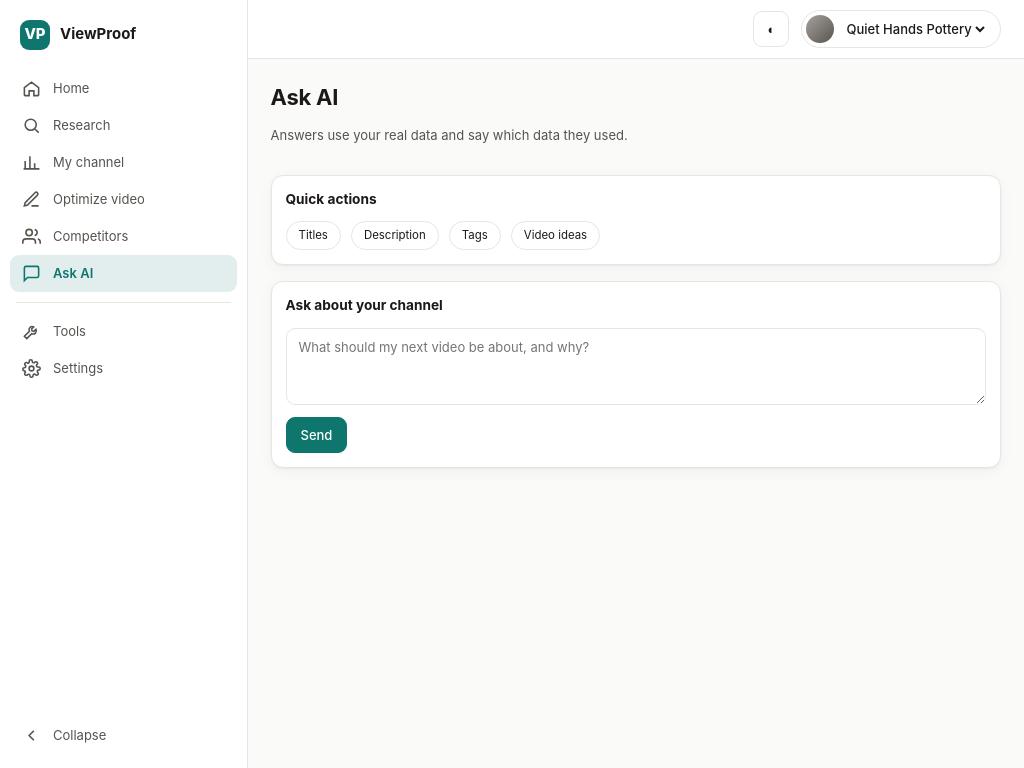
Test: Ask AI › a failed question keeps the text so it can be sent again
Type "hello" into the text box named "Ask about your channel" at [636, 366], box [286, 328, 986, 405]
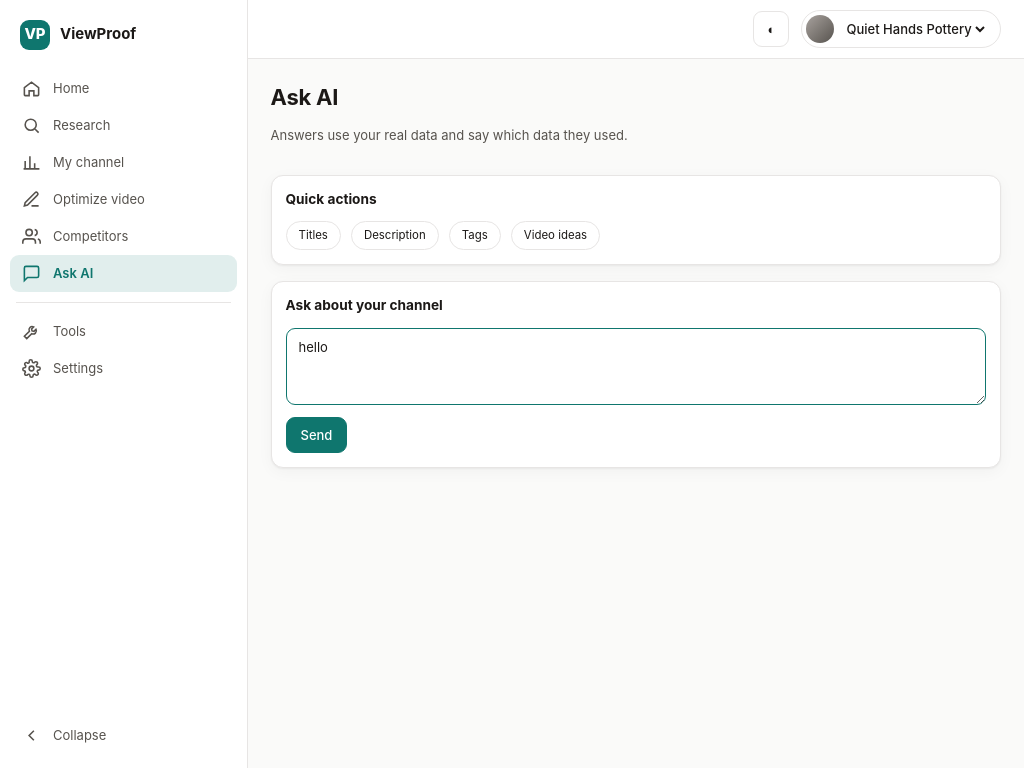
Click the button "Send" at [316, 435], box [286, 417, 347, 453]
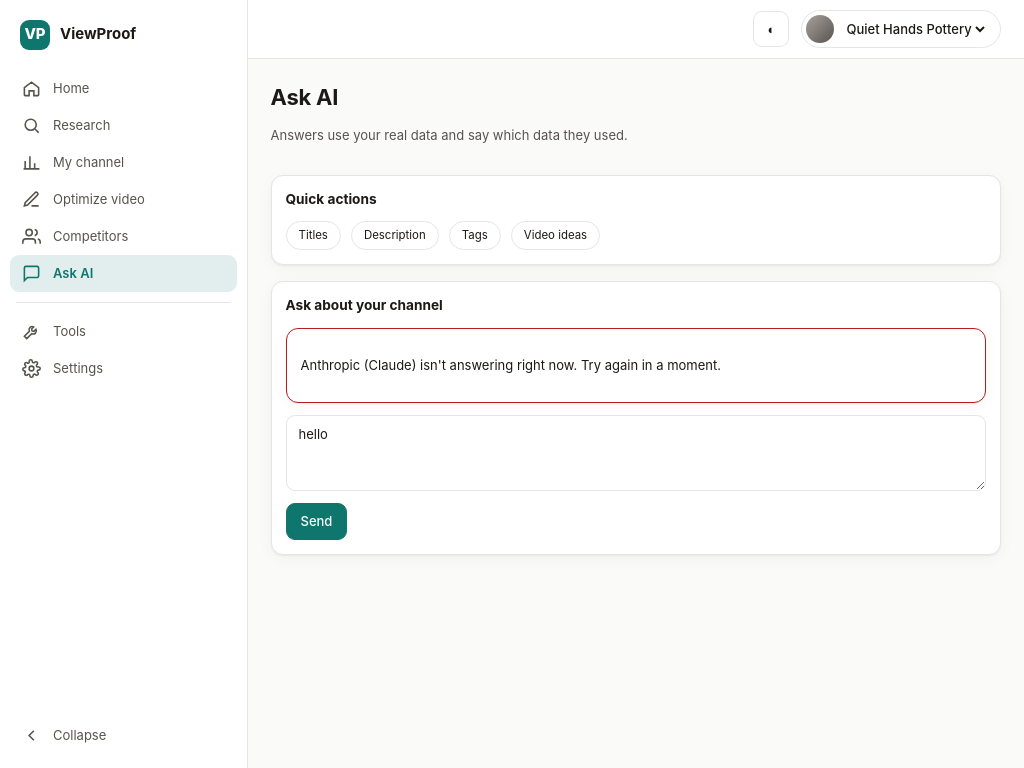
Expected: the text "isn't answering" is shown, [300, 357, 721, 373]
